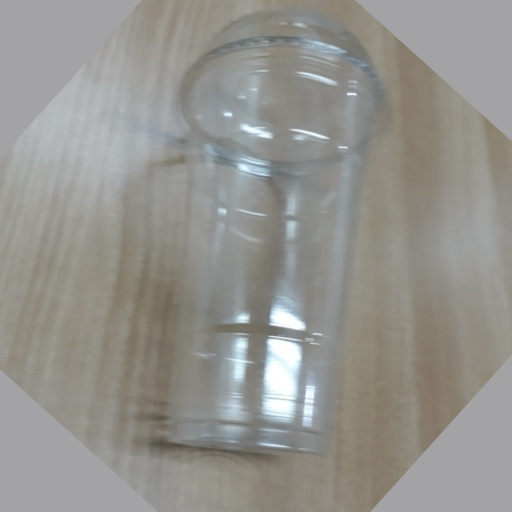Plastic_2: (164, 8, 383, 453)
